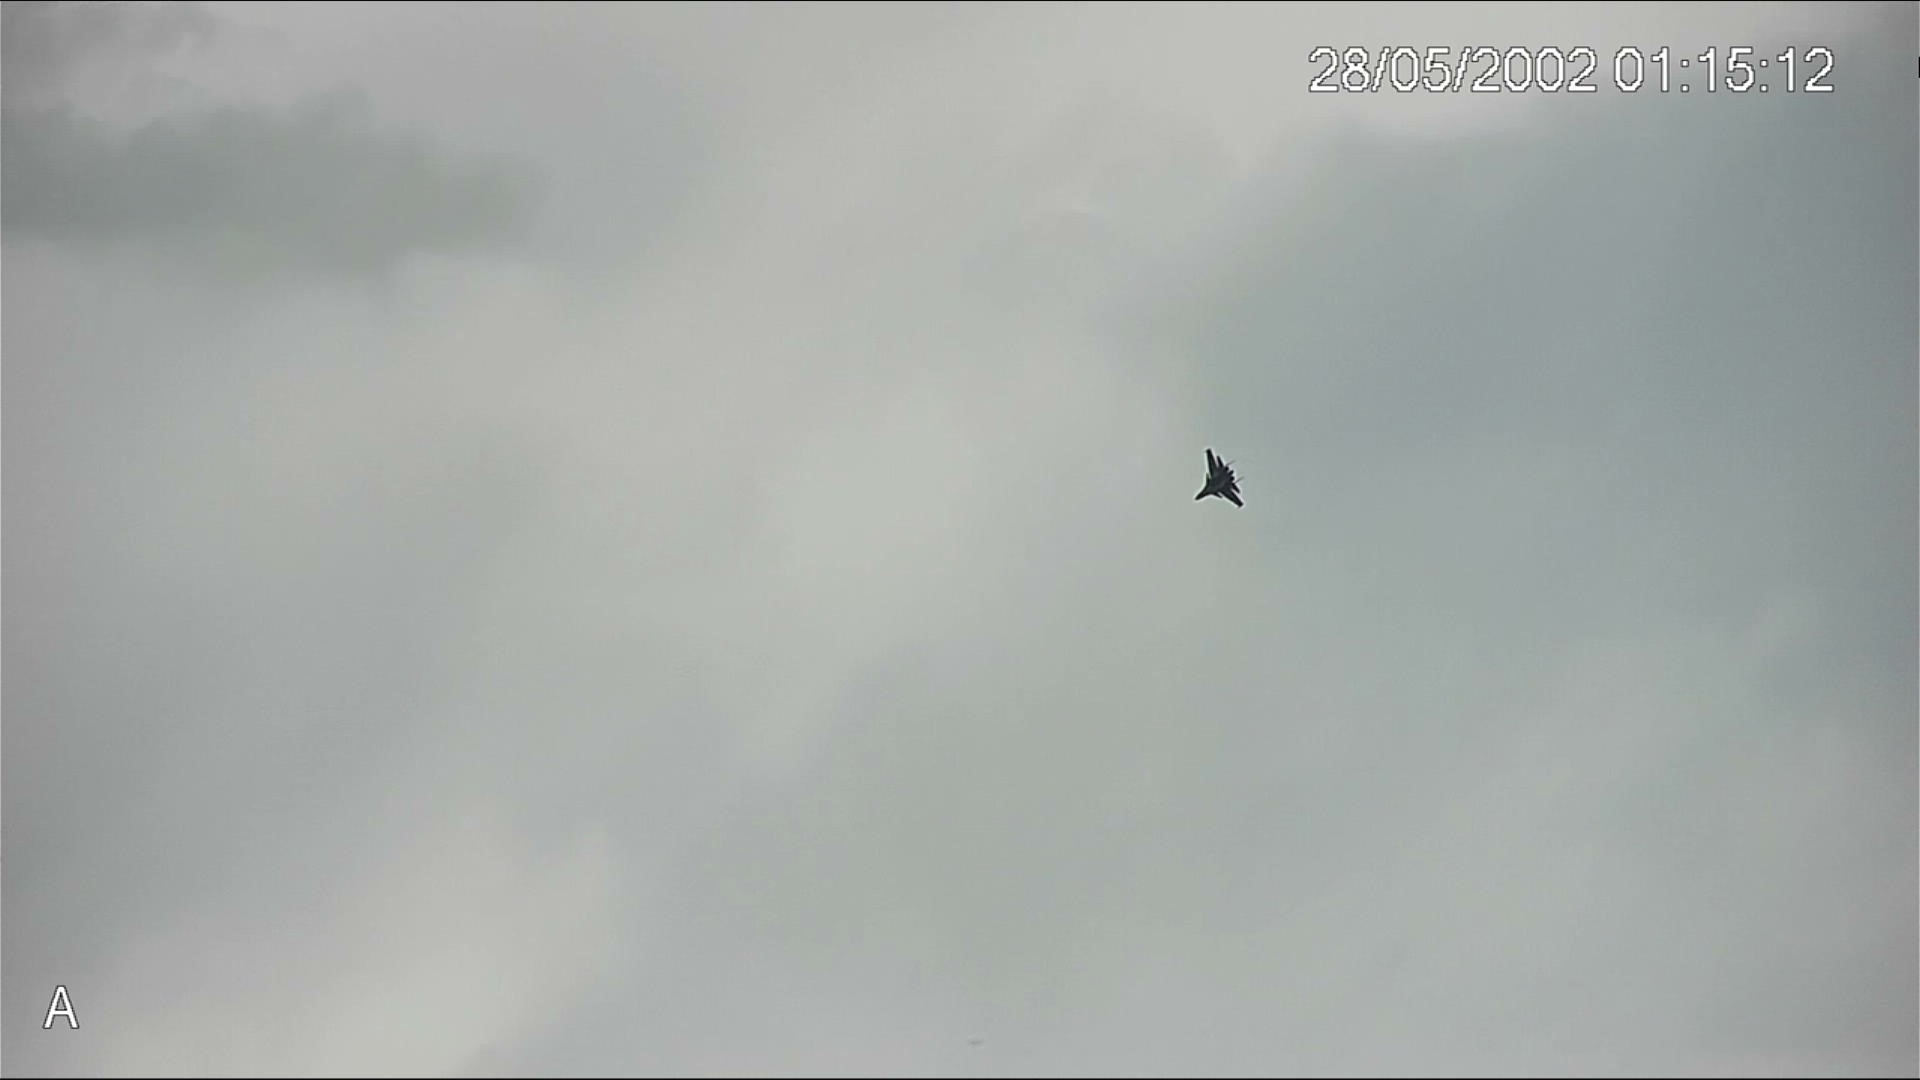SU_30: (1196, 440, 1245, 516)
